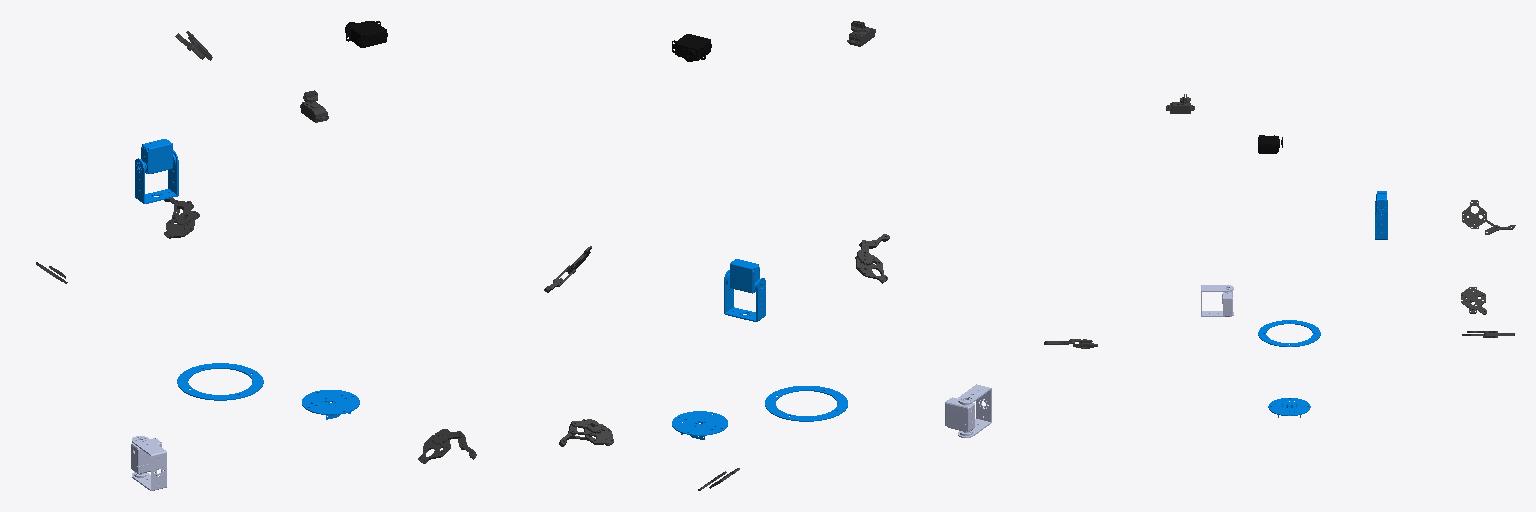
The robot description file, URDF, robot "three in one 2.SLDASM":
<?xml version="1.0" encoding="utf-8"?>
<!-- This URDF was automatically created by SolidWorks to URDF Exporter! Originally created by Stephen Brawner ([email redacted]) 
     Commit Version: 1.5.0-0-g9aa0fdb  Build Version: 1.5.7004.21443
     For more information, please see http://wiki.ros.org/sw_urdf_exporter -->
<robot
  name="three in one 2.SLDASM">
  <link
    name="base_link">
    <inertial>
      <origin
        xyz="1.36546848815112E-09 0.071847098180179 0.17671354653511"
        rpy="0 0 0" />
      <mass
        value="0.00754158871022579" />
      <inertia
        ixx="1.0538394726484E-05"
        ixy="1.18723438765937E-15"
        ixz="1.91029909080426E-10"
        iyy="2.10717228133966E-05"
        iyz="4.56413849649916E-20"
        izz="1.05361561707339E-05" />
    </inertial>
    <visual>
      <origin
        xyz="0 0 0"
        rpy="0 0 0" />
      <geometry>
        <mesh
          filename="package://three in one 2.SLDASM/meshes/base_link.STL" />
      </geometry>
      <material
        name="">
        <color
          rgba="0.0274509803921569 0.564705882352941 0.949019607843137 1" />
      </material>
    </visual>
    <collision>
      <origin
        xyz="0 0 0"
        rpy="0 0 0" />
      <geometry>
        <mesh
          filename="package://three in one 2.SLDASM/meshes/base_link.STL" />
      </geometry>
    </collision>
  </link>
  <link
    name="lowerplate">
    <inertial>
      <origin
        xyz="-6.325E-05 -0.0016205 4.1384E-05"
        rpy="0 0 0" />
      <mass
        value="0.010043" />
      <inertia
        ixx="3.7878E-06"
        ixy="-6.8428E-09"
        ixz="1.8838E-10"
        iyy="7.279E-06"
        iyz="5.7536E-15"
        izz="3.5512E-06" />
    </inertial>
    <visual>
      <origin
        xyz="0 0 0"
        rpy="0 0 0" />
      <geometry>
        <mesh
          filename="package://three in one 2.SLDASM/meshes/lowerplate.STL" />
      </geometry>
      <material
        name="">
        <color
          rgba="0.027451 0.56471 0.94902 1" />
      </material>
    </visual>
    <collision>
      <origin
        xyz="0 0 0"
        rpy="0 0 0" />
      <geometry>
        <mesh
          filename="package://three in one 2.SLDASM/meshes/lowerplate.STL" />
      </geometry>
    </collision>
  </link>
  <joint
    name="lowerplate"
    type="fixed">
    <origin
      xyz="0 -0.17671 0.071097"
      rpy="-1.5708 0 -1.5708" />
    <parent
      link="base_link" />
    <child
      link="lowerplate" />
    <axis
      xyz="0 0 0" />
    <limit
      lower="-1"
      upper="1"
      effort="1000"
      velocity="1" />
    <safety_controller
      k_velocity="0" />
  </joint>
  <link
    name="lowerarm">
    <inertial>
      <origin
        xyz="-0.046034 -0.027152 -0.011608"
        rpy="0 0 0" />
      <mass
        value="0.035637" />
      <inertia
        ixx="9.177E-06"
        ixy="-6.9602E-12"
        ixz="7.0849E-12"
        iyy="9.3199E-06"
        iyz="-1.4592E-08"
        izz="8.0342E-06" />
    </inertial>
    <visual>
      <origin
        xyz="0 0 0"
        rpy="0 0 0" />
      <geometry>
        <mesh
          filename="package://three in one 2.SLDASM/meshes/lowerarm.STL" />
      </geometry>
      <material
        name="">
        <color
          rgba="0.79216 0.81961 0.93333 1" />
      </material>
    </visual>
    <collision>
      <origin
        xyz="0 0 0"
        rpy="0 0 0" />
      <geometry>
        <mesh
          filename="package://three in one 2.SLDASM/meshes/lowerarm.STL" />
      </geometry>
    </collision>
  </link>
  <joint
    name="lowerarm"
    type="fixed">
    <origin
      xyz="0.0299 0.021603 -0.009624"
      rpy="-3.1416 0 1.5708" />
    <parent
      link="lowerplate" />
    <child
      link="lowerarm" />
    <axis
      xyz="0 0 0" />
    <limit
      lower="-1"
      upper="1"
      effort="1000"
      velocity="1" />
    <safety_controller
      k_velocity="0" />
  </joint>
  <link
    name="middlearm">
    <inertial>
      <origin
        xyz="-0.0015237 0.05032 2.6803E-08"
        rpy="0 0 0" />
      <mass
        value="0.035637" />
      <inertia
        ixx="8.0342E-06"
        ixy="1.4623E-08"
        ixz="3.8082E-11"
        iyy="6.5966E-06"
        iyz="6.9602E-12"
        izz="1.19E-05" />
    </inertial>
    <visual>
      <origin
        xyz="0 0 0"
        rpy="0 0 0" />
      <geometry>
        <mesh
          filename="package://three in one 2.SLDASM/meshes/middlearm.STL" />
      </geometry>
      <material
        name="">
        <color
          rgba="0.027451 0.56471 0.94902 1" />
      </material>
    </visual>
    <collision>
      <origin
        xyz="0 0 0"
        rpy="0 0 0" />
      <geometry>
        <mesh
          filename="package://three in one 2.SLDASM/meshes/middlearm.STL" />
      </geometry>
    </collision>
  </link>
  <joint
    name="middlearm"
    type="fixed">
    <origin
      xyz="-0.093103 -0.0199 -0.010084"
      rpy="1.5708 -1.5708 0" />
    <parent
      link="lowerarm" />
    <child
      link="middlearm" />
    <axis
      xyz="0 0 0" />
    <limit
      lower="-1"
      upper="1"
      effort="1000"
      velocity="1" />
    <safety_controller
      k_velocity="0" />
  </joint>
  <link
    name="upperarm">
    <inertial>
      <origin
        xyz="0.01835 0.0088299 0.0086812"
        rpy="0 0 0" />
      <mass
        value="0.0061259" />
      <inertia
        ixx="3.7347E-07"
        ixy="1.5118E-12"
        ixz="2.1352E-08"
        iyy="1.2224E-06"
        iyz="1.2137E-11"
        izz="1.3972E-06" />
    </inertial>
    <visual>
      <origin
        xyz="0 0 0"
        rpy="0 0 0" />
      <geometry>
        <mesh
          filename="package://three in one 2.SLDASM/meshes/upperarm.STL" />
      </geometry>
      <material
        name="">
        <color
          rgba="0.098039 0.098039 0.098039 1" />
      </material>
    </visual>
    <collision>
      <origin
        xyz="0 0 0"
        rpy="0 0 0" />
      <geometry>
        <mesh
          filename="package://three in one 2.SLDASM/meshes/upperarm.STL" />
      </geometry>
    </collision>
  </link>
  <joint
    name="upperarm"
    type="fixed">
    <origin
      xyz="-0.014279 0.14725 -0.027762"
      rpy="0 -1.5708 0" />
    <parent
      link="middlearm" />
    <child
      link="upperarm" />
    <axis
      xyz="0 0 0" />
    <limit
      lower="-1"
      upper="1"
      effort="1000"
      velocity="1" />
    <safety_controller
      k_velocity="0" />
  </joint>
  <link
    name="upperplate">
    <inertial>
      <origin
        xyz="1.34596786160448E-06 -0.00977181136771738 -0.00556869558658946"
        rpy="0 0 0" />
      <mass
        value="0.00578116072485361" />
      <inertia
        ixx="1.0253149496263E-06"
        ixy="1.21222116372839E-11"
        ixz="-2.13885627384944E-12"
        iyy="1.16631679611634E-06"
        iyz="-2.09355837611731E-08"
        izz="3.50127501135318E-07" />
    </inertial>
    <visual>
      <origin
        xyz="0 0 0"
        rpy="0 0 0" />
      <geometry>
        <mesh
          filename="package://three in one 2.SLDASM/meshes/upperplate.STL" />
      </geometry>
      <material
        name="">
        <color
          rgba="0.298039215686275 0.298039215686275 0.298039215686275 1" />
      </material>
    </visual>
    <collision>
      <origin
        xyz="0 0 0"
        rpy="0 0 0" />
      <geometry>
        <mesh
          filename="package://three in one 2.SLDASM/meshes/upperplate.STL" />
      </geometry>
    </collision>
  </link>
  <joint
    name="upperplate"
    type="fixed">
    <origin
      xyz="0.02552 -0.05642 0.018208"
      rpy="0 -1.5708 0" />
    <parent
      link="upperarm" />
    <child
      link="upperplate" />
    <axis
      xyz="0 0 0" />
    <limit
      lower="-1"
      upper="1"
      effort="1000"
      velocity="1" />
    <safety_controller
      k_velocity="0" />
  </joint>
  <link
    name="leftknuckle">
    <inertial>
      <origin
        xyz="0.0082064680470274 -0.00253725280321745 0.00402504557083538"
        rpy="0 0 0" />
      <mass
        value="0.00670041655237171" />
      <inertia
        ixx="1.01063054718557E-06"
        ixy="7.48520662500276E-14"
        ixz="-5.4809212900946E-08"
        iyy="1.84459409868291E-06"
        iyz="-1.3580032700707E-13"
        izz="8.44014518383453E-07" />
    </inertial>
    <visual>
      <origin
        xyz="0 0 0"
        rpy="0 0 0" />
      <geometry>
        <mesh
          filename="package://three in one 2.SLDASM/meshes/leftknuckle.STL" />
      </geometry>
      <material
        name="">
        <color
          rgba="0.298039215686275 0.298039215686275 0.298039215686275 1" />
      </material>
    </visual>
    <collision>
      <origin
        xyz="0 0 0"
        rpy="0 0 0" />
      <geometry>
        <mesh
          filename="package://three in one 2.SLDASM/meshes/leftknuckle.STL" />
      </geometry>
    </collision>
  </link>
  <joint
    name="leftknuckle"
    type="fixed">
    <origin
      xyz="-0.014 0.027 0.006"
      rpy="1.5708 0 0.59692" />
    <parent
      link="upperplate" />
    <child
      link="leftknuckle" />
    <axis
      xyz="0 0 0" />
    <limit
      lower="-1"
      upper="1"
      effort="1000"
      velocity="1" />
    <safety_controller
      k_velocity="0" />
  </joint>
  <link
    name="Lupperknuckle">
    <inertial>
      <origin
        xyz="0.0100055996920054 -0.00101037953654901 -0.0267439724484904"
        rpy="0 0 0" />
      <mass
        value="0.00495743586876842" />
      <inertia
        ixx="7.50650007349076E-07"
        ixy="7.72724054204526E-14"
        ixz="3.87327124501305E-07"
        iyy="1.24899981646111E-06"
        iyz="-1.37389850517122E-13"
        izz="5.05786200656045E-07" />
    </inertial>
    <visual>
      <origin
        xyz="0 0 0"
        rpy="0 0 0" />
      <geometry>
        <mesh
          filename="package://three in one 2.SLDASM/meshes/Lupperknuckle.STL" />
      </geometry>
      <material
        name="">
        <color
          rgba="0.298039215686275 0.298039215686275 0.298039215686275 1" />
      </material>
    </visual>
    <collision>
      <origin
        xyz="0 0 0"
        rpy="0 0 0" />
      <geometry>
        <mesh
          filename="package://three in one 2.SLDASM/meshes/Lupperknuckle.STL" />
      </geometry>
    </collision>
  </link>
  <joint
    name="Lupperknuckle"
    type="fixed">
    <origin
      xyz="0 0 0"
      rpy="0 0 0" />
    <parent
      link="leftknuckle" />
    <child
      link="Lupperknuckle" />
    <axis
      xyz="0 0 0" />
    <limit
      lower="-1"
      upper="1"
      effort="1000"
      velocity="1" />
    <safety_controller
      k_velocity="0" />
  </joint>
  <link
    name="Linnerknuckle">
    <inertial>
      <origin
        xyz="0.0127712601373555 -0.00383999137319385 0.00362216916213334"
        rpy="0 0 0" />
      <mass
        value="0.00805105483619109" />
      <inertia
        ixx="1.19600972246059E-06"
        ixy="-1.53703351994622E-15"
        ixz="-3.51769128639794E-07"
        iyy="2.38363098205039E-06"
        iyz="-2.43495426929749E-15"
        izz="1.19969794551822E-06" />
    </inertial>
    <visual>
      <origin
        xyz="0 0 0"
        rpy="0 0 0" />
      <geometry>
        <mesh
          filename="package://three in one 2.SLDASM/meshes/Linnerknuckle.STL" />
      </geometry>
      <material
        name="">
        <color
          rgba="0.298039215686275 0.298039215686275 0.298039215686275 1" />
      </material>
    </visual>
    <collision>
      <origin
        xyz="0 0 0"
        rpy="0 0 0" />
      <geometry>
        <mesh
          filename="package://three in one 2.SLDASM/meshes/Linnerknuckle.STL" />
      </geometry>
    </collision>
  </link>
  <joint
    name="Linnerknuckle"
    type="fixed">
    <origin
      xyz="0.018109 0 -0.025134"
      rpy="3.1416 -1.5708 0" />
    <parent
      link="Lupperknuckle" />
    <child
      link="Linnerknuckle" />
    <axis
      xyz="0 0 0" />
    <limit
      lower="-1"
      upper="1"
      effort="1000"
      velocity="1" />
    <safety_controller
      k_velocity="0" />
  </joint>
  <link
    name="rightknuckle">
    <inertial>
      <origin
        xyz="0.0068443672169512 0.00561697418738269 0.00411053222959029"
        rpy="0 0 0" />
      <mass
        value="0.00657066502204756" />
      <inertia
        ixx="1.05803713755379E-06"
        ixy="-2.90983942710282E-14"
        ixz="-7.15546622094452E-08"
        iyy="1.83739003818354E-06"
        iyz="1.70607206970675E-14"
        izz="7.89209379944049E-07" />
    </inertial>
    <visual>
      <origin
        xyz="0 0 0"
        rpy="0 0 0" />
      <geometry>
        <mesh
          filename="package://three in one 2.SLDASM/meshes/rightknuckle.STL" />
      </geometry>
      <material
        name="">
        <color
          rgba="0.298039215686275 0.298039215686275 0.298039215686275 1" />
      </material>
    </visual>
    <collision>
      <origin
        xyz="0 0 0"
        rpy="0 0 0" />
      <geometry>
        <mesh
          filename="package://three in one 2.SLDASM/meshes/rightknuckle.STL" />
      </geometry>
    </collision>
  </link>
  <joint
    name="rightknuckle"
    type="fixed">
    <origin
      xyz="0.014 0.027 0.009"
      rpy="-1.5708 0 2.4465" />
    <parent
      link="upperplate" />
    <child
      link="rightknuckle" />
    <axis
      xyz="0 0 0" />
    <limit
      lower="-1"
      upper="1"
      effort="1000"
      velocity="1" />
    <safety_controller
      k_velocity="0" />
  </joint>
  <link
    name="Rupperknuckle">
    <inertial>
      <origin
        xyz="0.0069438761124177 0.00107784632697661 0.0120349498817626"
        rpy="0 0 0" />
      <mass
        value="0.0048276843384443" />
      <inertia
        ixx="8.85391300091852E-07"
        ixy="3.15496080486476E-15"
        ixz="-2.76583902968736E-07"
        iyy="1.24179575596174E-06"
        iyz="3.07106105515839E-14"
        izz="3.63646359842089E-07" />
    </inertial>
    <visual>
      <origin
        xyz="0 0 0"
        rpy="0 0 0" />
      <geometry>
        <mesh
          filename="package://three in one 2.SLDASM/meshes/Rupperknuckle.STL" />
      </geometry>
      <material
        name="">
        <color
          rgba="0.298039215686275 0.298039215686275 0.298039215686275 1" />
      </material>
    </visual>
    <collision>
      <origin
        xyz="0 0 0"
        rpy="0 0 0" />
      <geometry>
        <mesh
          filename="package://three in one 2.SLDASM/meshes/Rupperknuckle.STL" />
      </geometry>
    </collision>
  </link>
  <joint
    name="Rupperknuckle"
    type="fixed">
    <origin
      xyz="0.019064 0.003 -0.037807"
      rpy="0 -1.138 0" />
    <parent
      link="rightknuckle" />
    <child
      link="Rupperknuckle" />
    <axis
      xyz="0 0 0" />
    <limit
      lower="-1"
      upper="1"
      effort="1000"
      velocity="1" />
    <safety_controller
      k_velocity="0" />
  </joint>
  <link
    name="Rinnerknuckle">
    <inertial>
      <origin
        xyz="0.0216146591864465 0.00383999137319879 0.015810963781493"
        rpy="0 0 0" />
      <mass
        value="0.00805105483619114" />
      <inertia
        ixx="1.46103335887307E-06"
        ixy="-1.06525994849753E-16"
        ixz="-1.96601463071915E-07"
        iyy="2.38363098204819E-06"
        iyz="-2.9095036513345E-15"
        izz="9.34674309103552E-07" />
    </inertial>
    <visual>
      <origin
        xyz="0 0 0"
        rpy="0 0 0" />
      <geometry>
        <mesh
          filename="package://three in one 2.SLDASM/meshes/Rinnerknuckle.STL" />
      </geometry>
      <material
        name="">
        <color
          rgba="0.298039215686275 0.298039215686275 0.298039215686275 1" />
      </material>
    </visual>
    <collision>
      <origin
        xyz="0 0 0"
        rpy="0 0 0" />
      <geometry>
        <mesh
          filename="package://three in one 2.SLDASM/meshes/Rinnerknuckle.STL" />
      </geometry>
    </collision>
  </link>
  <joint
    name="Rinnerknuckle"
    type="fixed">
    <origin
      xyz="0 0 0"
      rpy="0 0 0" />
    <parent
      link="Rupperknuckle" />
    <child
      link="Rinnerknuckle" />
    <axis
      xyz="0 0 0" />
    <limit
      lower="-1"
      upper="1"
      effort="1000"
      velocity="1" />
    <safety_controller
      k_velocity="0" />
  </joint>
</robot>

--- What the picture shows (computed from the rendered views, not written in the file) ---
The picture shows the robot from 3 angles, left to right: view 1: azimuth 30°, elevation 25°; view 2: azimuth 150°, elevation 25°; view 3: azimuth 270°, elevation 25°; orthographic projection.
Robot: three in one 2.SLDASM — 12 links, 11 joints (11 fixed); root link base_link; default pose: every joint at zero.
Visible links, largest first — view 1: middlearm, lowerarm, base_link, lowerplate, upperarm, leftknuckle, upperplate, Rinnerknuckle; view 2: lowerarm, middlearm, base_link, lowerplate, upperarm, leftknuckle; view 3: base_link, lowerarm, lowerplate, middlearm, Linnerknuckle.
Boxes of the visible links, x1=… form: middlearm: x1=135, y1=139, x2=178, y2=203; lowerarm: x1=131, y1=436, x2=166, y2=490; base_link: x1=177, y1=363, x2=263, y2=400; lowerplate: x1=302, y1=390, x2=359, y2=419; upperarm: x1=345, y1=21, x2=387, y2=47; leftknuckle: x1=418, y1=429, x2=462, y2=463; upperplate: x1=300, y1=90, x2=328, y2=122; Rinnerknuckle: x1=164, y1=200, x2=199, y2=238; lowerarm: x1=945, y1=384, x2=991, y2=437; middlearm: x1=724, y1=259, x2=765, y2=321; base_link: x1=765, y1=386, x2=847, y2=421; lowerplate: x1=672, y1=411, x2=727, y2=439; upperarm: x1=672, y1=34, x2=711, y2=61; leftknuckle: x1=855, y1=240, x2=887, y2=283; base_link: x1=1258, y1=320, x2=1320, y2=346; lowerarm: x1=1201, y1=285, x2=1233, y2=316; lowerplate: x1=1268, y1=398, x2=1310, y2=417; middlearm: x1=1375, y1=191, x2=1387, y2=239; Linnerknuckle: x1=1462, y1=200, x2=1515, y2=234.
Bounding box of the posed robot: 0.4486 × 0.9032 × 0.6032 m (x, y, z).
Meshes: 12 distinct files referenced, 12 mesh visuals loaded (12 binary STL).
